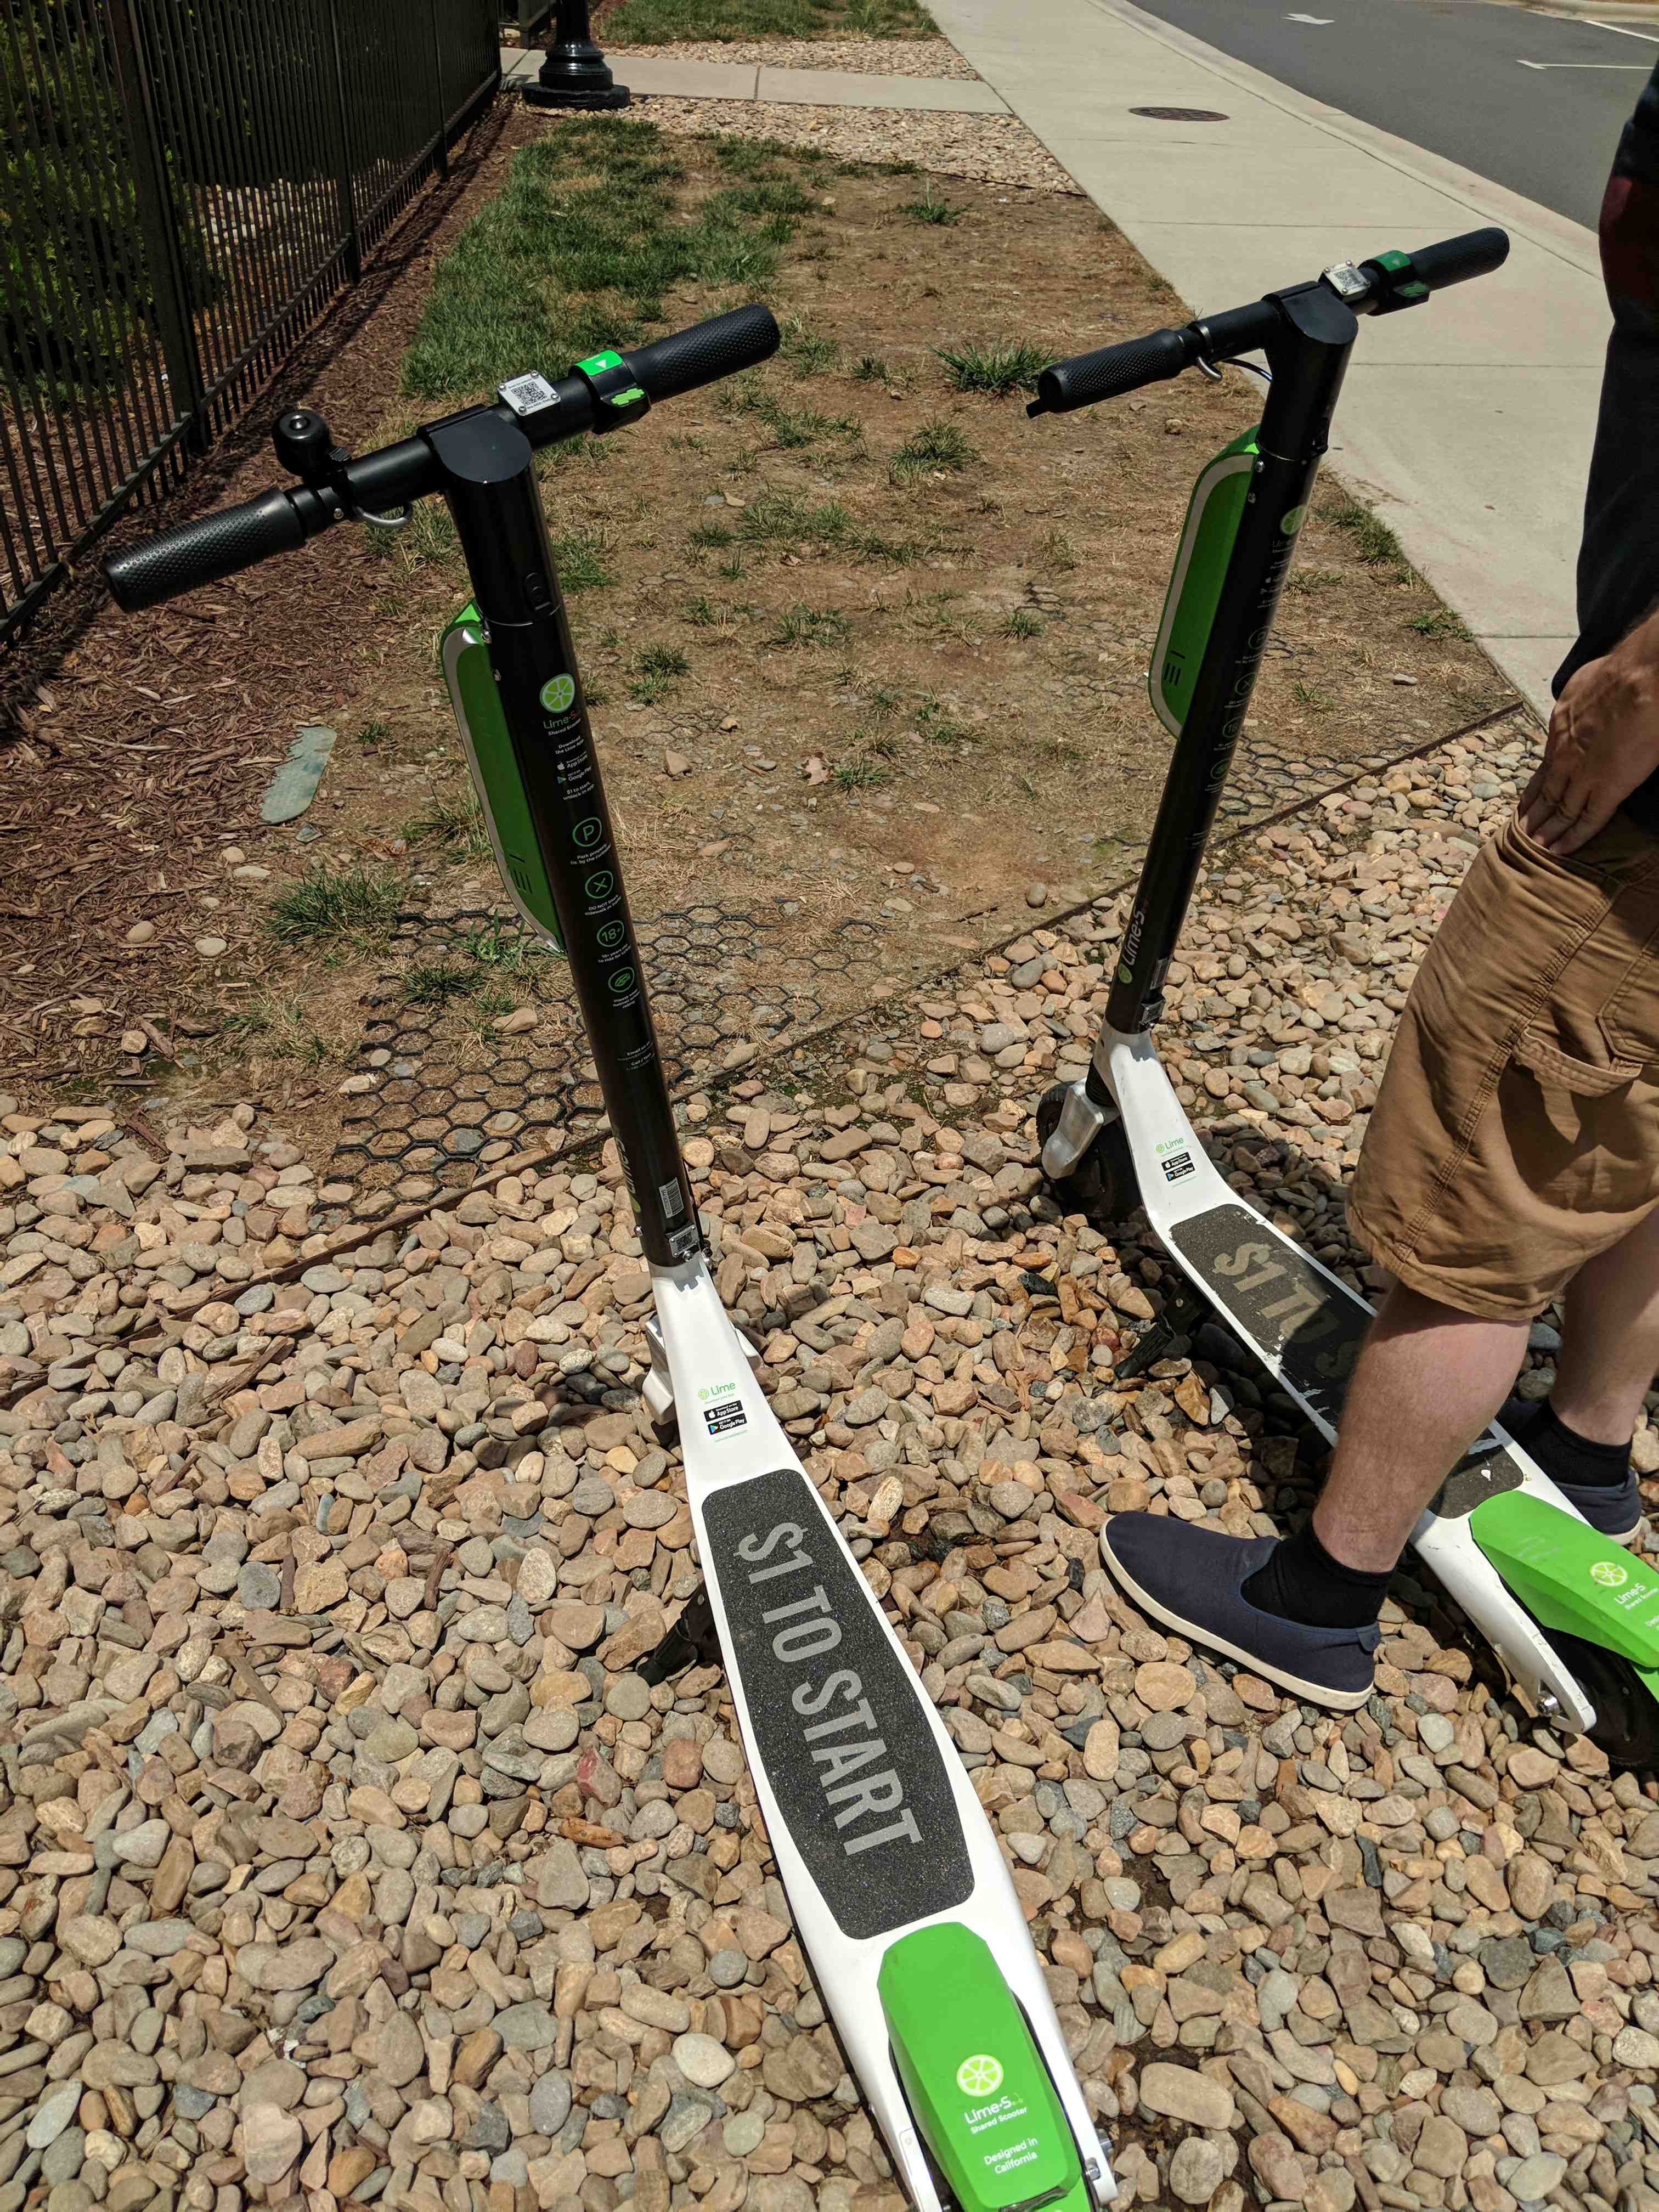scooter: (64, 284, 1115, 2212), (1025, 233, 1650, 1784)
